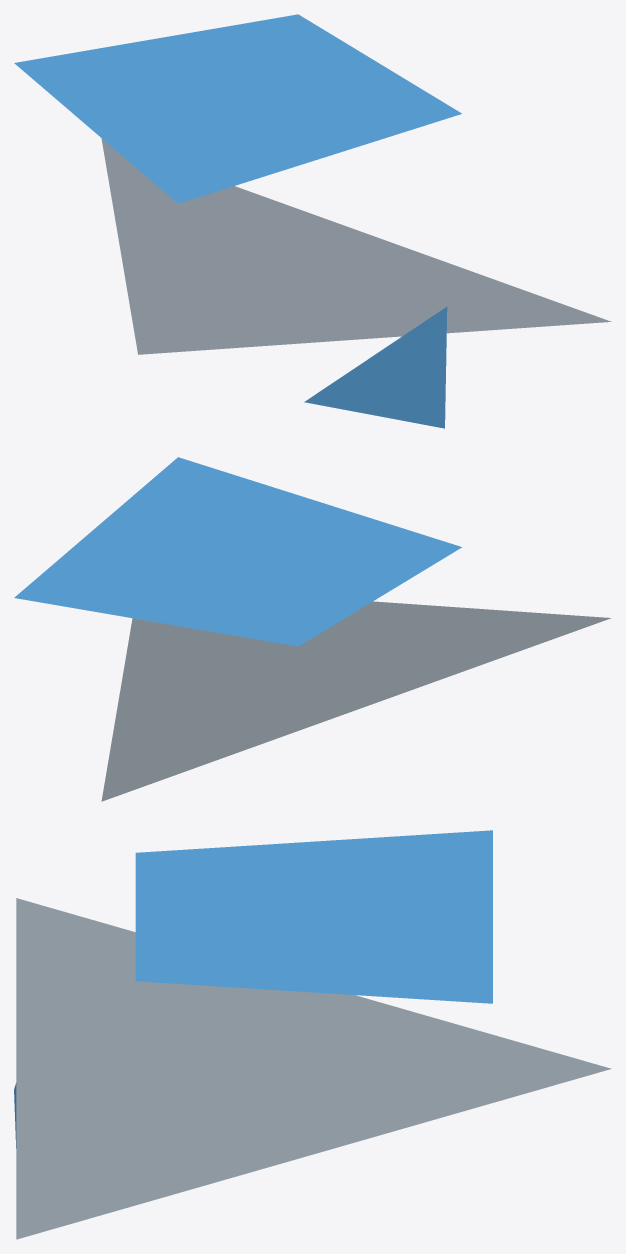
Rendered from AL_WarFactory_LOD2.glb.
The picture shows the model from 3 angles, top to bottom: view 1: azimuth 30°, elevation 25°; view 2: azimuth 150°, elevation 25°; view 3: azimuth 270°, elevation 25°; orthographic projection. The views are drawn at different scales.
Visible parts, largest first — view 1: EntranceGate; view 2: EntranceGate; view 3: EntranceGate.
Part boxes in pixels (x1,y1,x2,y2): EntranceGate: (14,14,611,428); EntranceGate: (14,457,611,801); EntranceGate: (14,830,611,1239).
Size of the model in its own units: 800 by 417 by 803.
